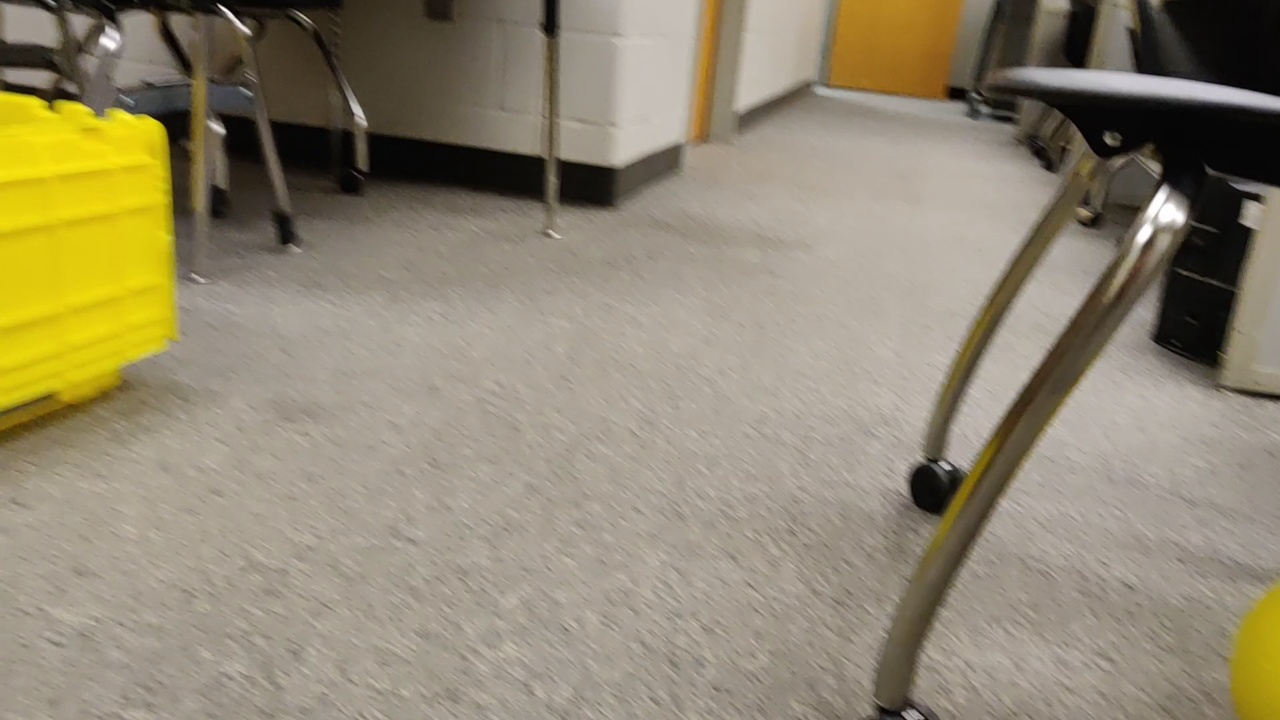Ball: (1230, 580, 1280, 718)
